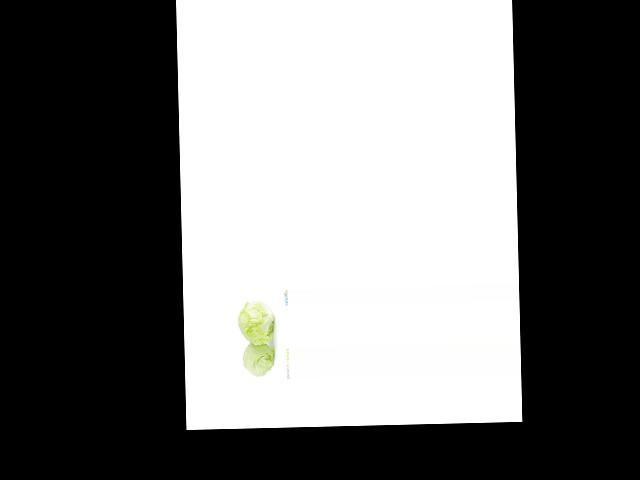lettuce: (241, 332, 282, 378)
